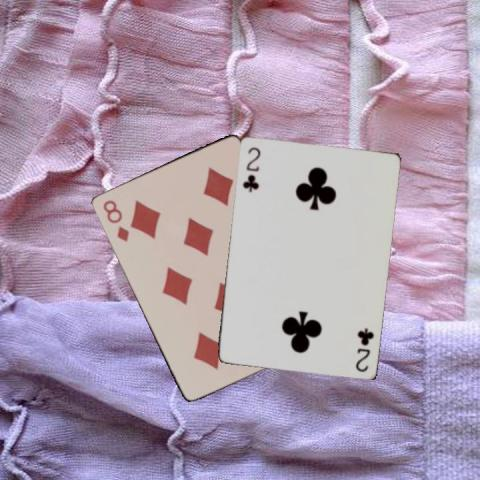2c: (352, 325, 375, 373), (240, 144, 262, 193)
8d: (99, 197, 130, 243)
